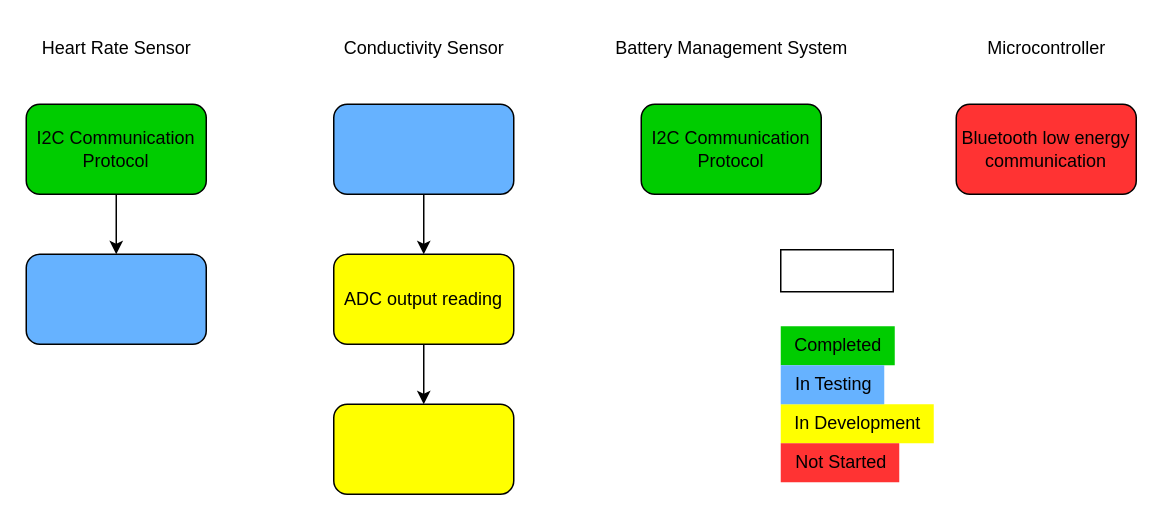
The diagram is 1163 pixels wide and 521 high, and some of its shapes have lost their labels. The centre of each missing label's shape, as x and y in pixels:
"DAC input wave" belongs at (423,148).
"Heart rate conversion to bpm" belongs at (115,298).
"Interrupt Service Routine" belongs at (423,448).
"Legend" belongs at (836,270).
